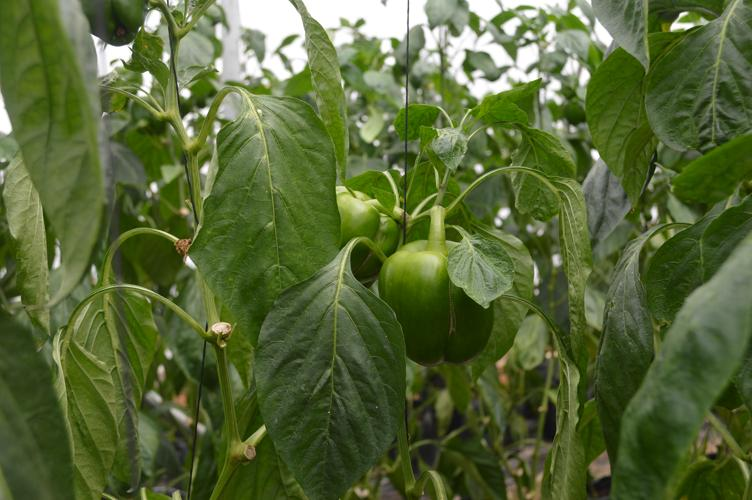BellPepper: (388, 241, 490, 359), (332, 186, 396, 276)
